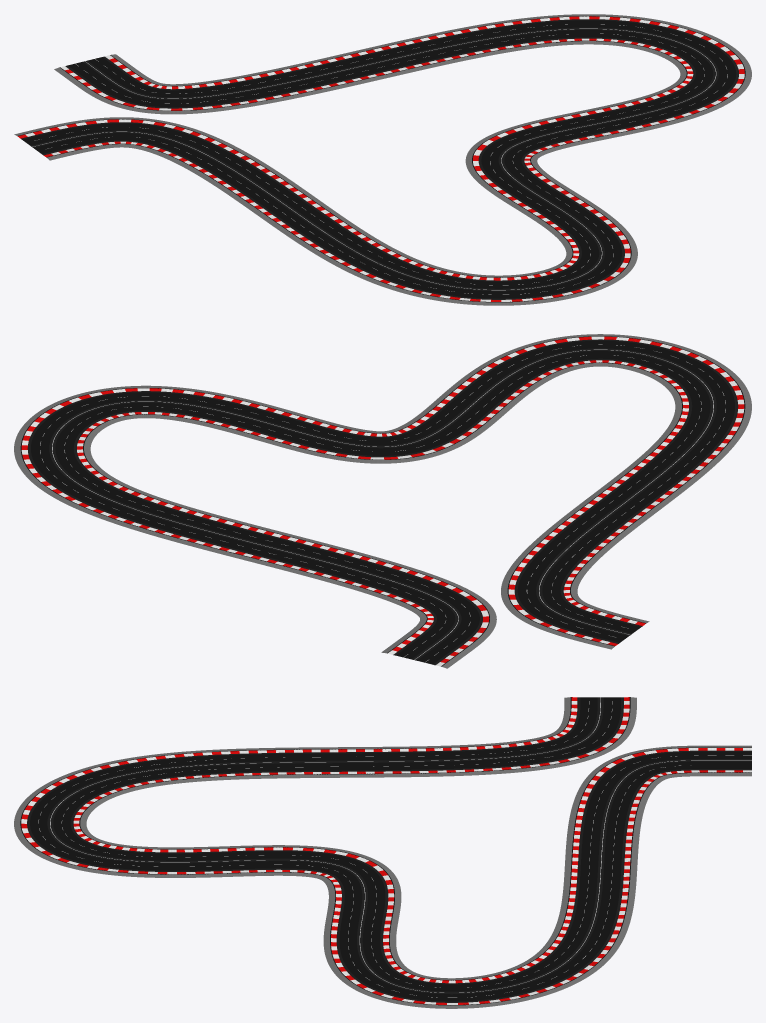
Rendered from S0.2c2h0-1-chikC.glb.
The picture shows the model from 3 angles, top to bottom: view 1: azimuth 30°, elevation 25°; view 2: azimuth 150°, elevation 25°; view 3: azimuth 270°, elevation 25°; orthographic projection. The views are drawn at different scales.
Visible parts, largest first — view 1: Grid.001; view 2: Grid.001; view 3: Grid.001.
Part boxes in pixels (x1,y1,x2,y2): Grid.001: (14,14,751,305); Grid.001: (14,334,751,668); Grid.001: (14,697,751,1008).
Size of the model in its own units: 254 by 0.31 by 254.
